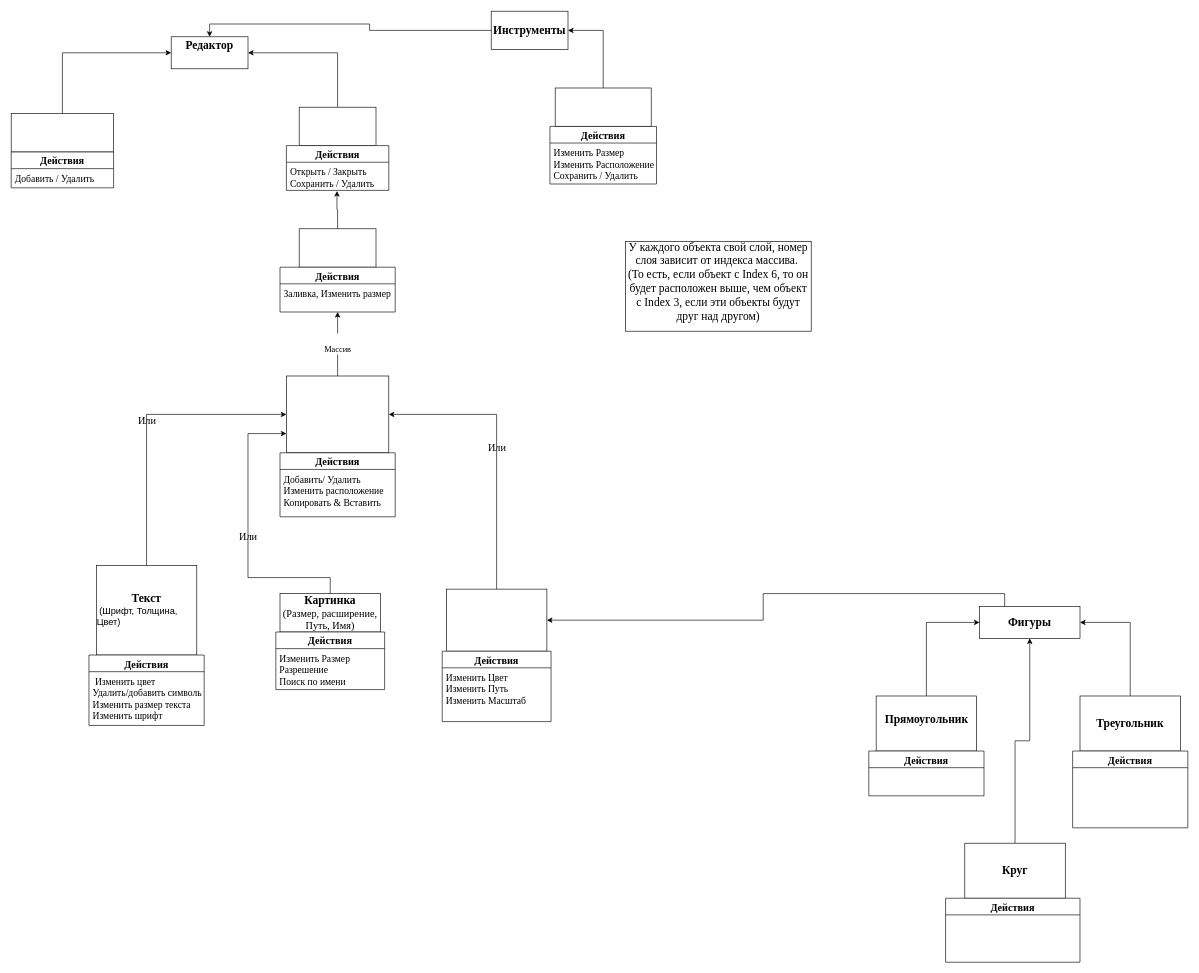
This 1199x973 diagram has some shape labels left out. Here are the shapes that lost their labels. From the top down, the centre of each, then its label:
(x=337, y=126): Документ
(x=603, y=106): Выделение ( [Id объекта] )
(x=62, y=132): Фильтр (цвет, прозрачность)
(x=337, y=247): Холст (Цвет фона, размер)
(x=337, y=414): Объект (Расположение, прозрачность, Id)
(x=496, y=619): Арт Объект (Цвет, Путь, Размер)
